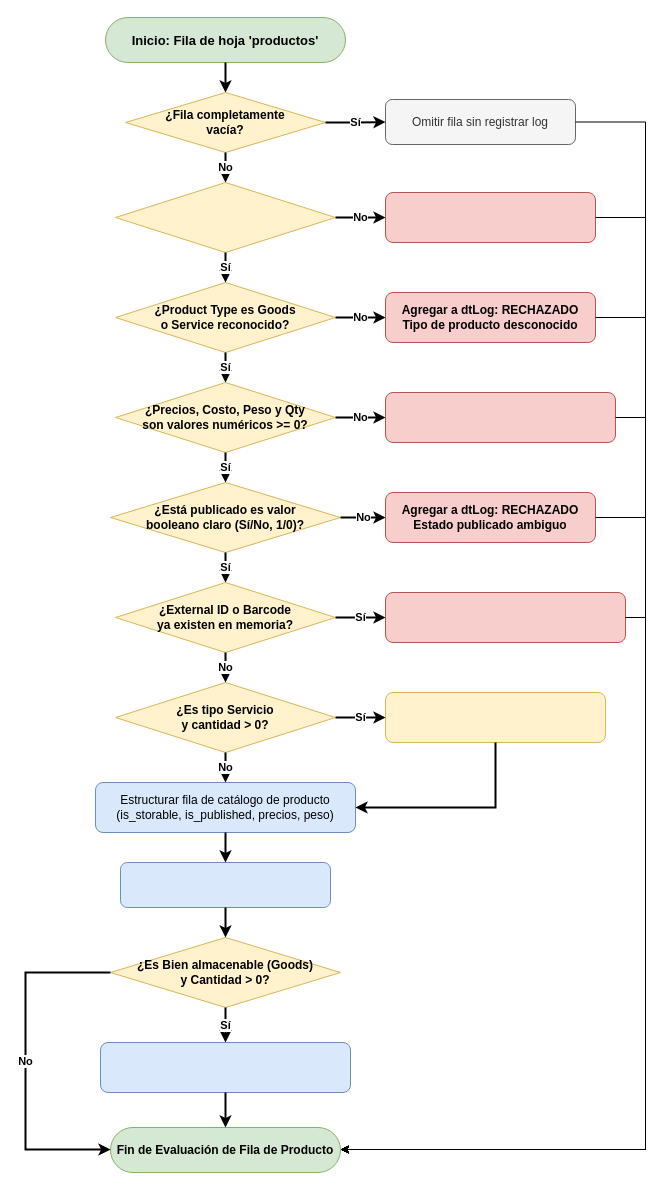
Image size: 671x1190. Some labels were removed from this diagram. Here are the shapes that lost their labels. From the top down, the box of each, then its label:
(114, 182, 336, 252): ¿External ID, Name y Product Type presentes?
(384, 192, 596, 242): Agregar a dtLog: RECHAZADO Faltan campos obligatorios
(384, 392, 616, 442): Agregar a dtLog: RECHAZADO Valores numéricos inválidos/negativos
(384, 592, 626, 642): Agregar a dtLog: RECHAZADO ID externo o código de barras duplicado
(384, 692, 606, 742): Agregar a dtLog: ADVERTENCIA Servicio no almacena stock -> Qty a 0
(120, 862, 330, 908): Agregar fila a dtPro (03_productos.xlsx)
(100, 1042, 350, 1092): Agregar línea de ajuste a dtInv (04_inventario_cantidad_a_la_mano.xlsx)
